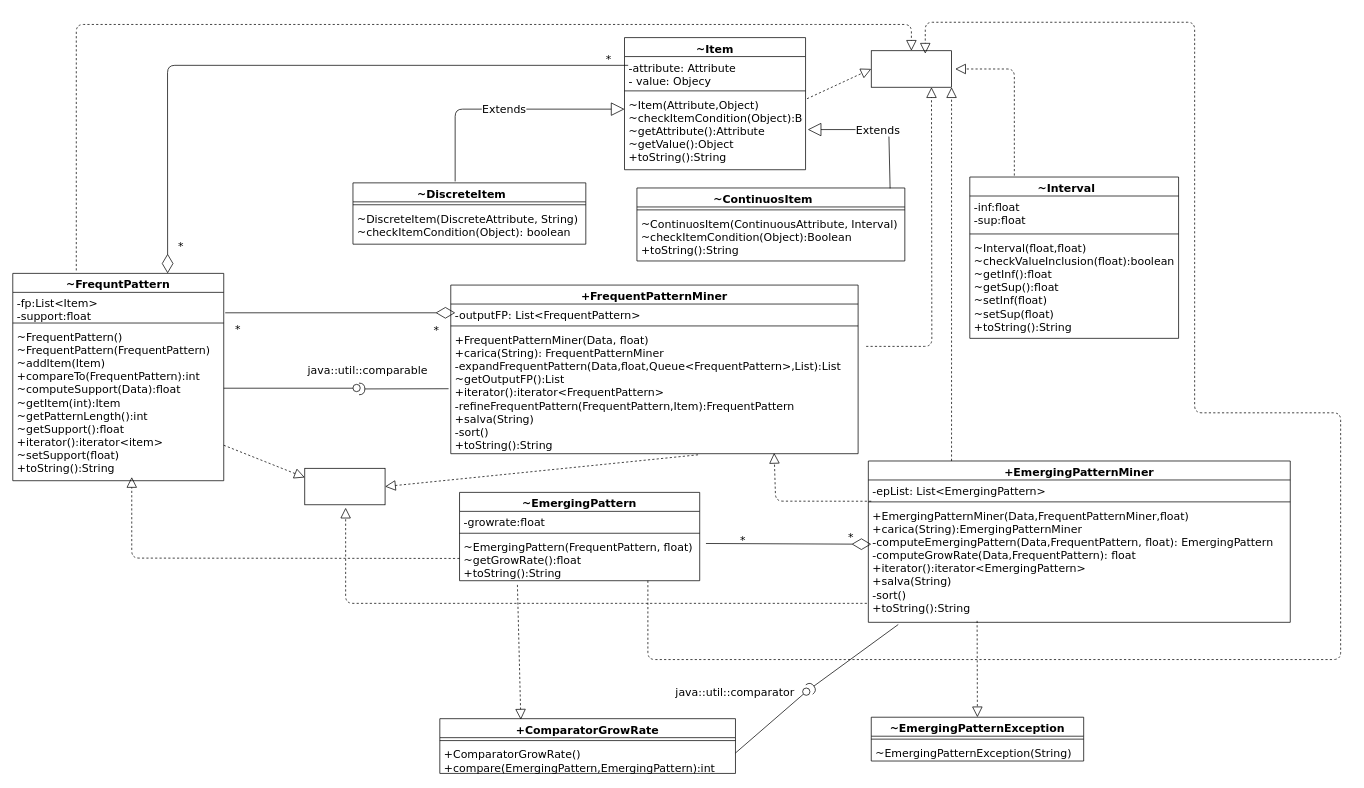
The diagram is 1364 pixels wide and 788 high, and some of its shapes have lost their labels. Here are the shapes that lost their labels. From the top down, the centre of each, then its label:
the point at 911,68: «interface» Serializable
the point at 344,486: «interface» Iterable
